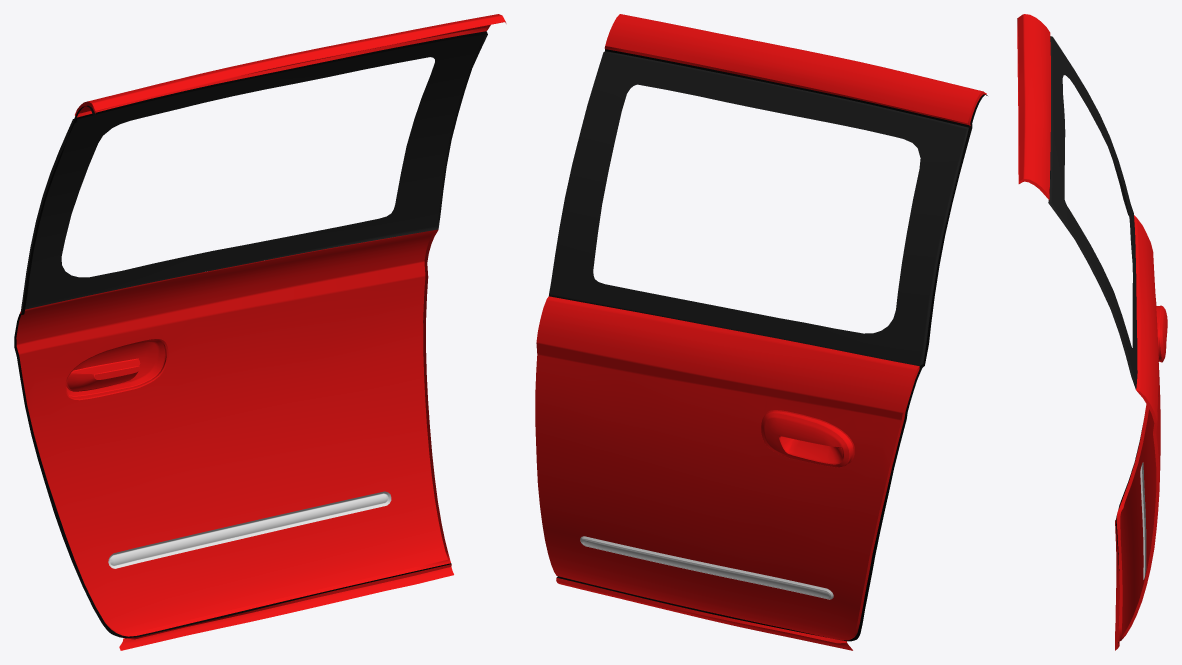
The picture shows the model from 3 angles, left to right: view 1: azimuth 30°, elevation 25°; view 2: azimuth 150°, elevation 25°; view 3: azimuth 270°, elevation 25°; orthographic projection. The views are drawn at different scales.
Visible parts, largest first — view 1: N664_9A_301B_L_1_DaS_N664_9A_301B_L, N664_9A_301B_L_N664_9A_301B_L_2_D, N664_9A_301B_L_1_DaS_N664_9A_301B_L_E, N664_9A_301B_L_N664_9A_301B_L_3_DaS, N664_9A_301B_L_N664_9A_301B_L_4_D; view 2: N664_9A_301B_L_1_DaS_N664_9A_301B_L, N664_9A_301B_L_N664_9A_301B_L_2_D, N664_9A_301B_L_1_DaS_N664_9A_301B_L_E, N664_9A_301B_L_N664_9A_301B_L_4_D, N664_9A_301B_L_N664_9A_301B_L_3_DaS; view 3: N664_9A_301B_L_1_DaS_N664_9A_301B_L, N664_9A_301B_L_N664_9A_301B_L_2_D, N664_9A_301B_L_1_DaS_N664_9A_301B_L_E, N664_9A_301B_L_N664_9A_301B_L_3_DaS.
Part boxes in pixels (x1,y1,x2,y2): N664_9A_301B_L_1_DaS_N664_9A_301B_L: [16, 14, 504, 650]; N664_9A_301B_L_N664_9A_301B_L_2_D: [21, 34, 487, 311]; N664_9A_301B_L_1_DaS_N664_9A_301B_L_E: [20, 21, 506, 639]; N664_9A_301B_L_N664_9A_301B_L_3_DaS: [108, 491, 391, 568]; N664_9A_301B_L_N664_9A_301B_L_4_D: [14, 31, 487, 638]; N664_9A_301B_L_1_DaS_N664_9A_301B_L: [535, 14, 982, 650]; N664_9A_301B_L_N664_9A_301B_L_2_D: [549, 51, 968, 366]; N664_9A_301B_L_1_DaS_N664_9A_301B_L_E: [556, 46, 986, 643]; N664_9A_301B_L_N664_9A_301B_L_4_D: [557, 49, 987, 641]; N664_9A_301B_L_N664_9A_301B_L_3_DaS: [580, 536, 833, 599]; N664_9A_301B_L_1_DaS_N664_9A_301B_L: [1018, 14, 1167, 650]; N664_9A_301B_L_N664_9A_301B_L_2_D: [1048, 36, 1137, 389]; N664_9A_301B_L_1_DaS_N664_9A_301B_L_E: [1017, 18, 1162, 645]; N664_9A_301B_L_N664_9A_301B_L_3_DaS: [1140, 462, 1146, 579].
Size of the model in its own units: 101 by 140 by 40.04.
